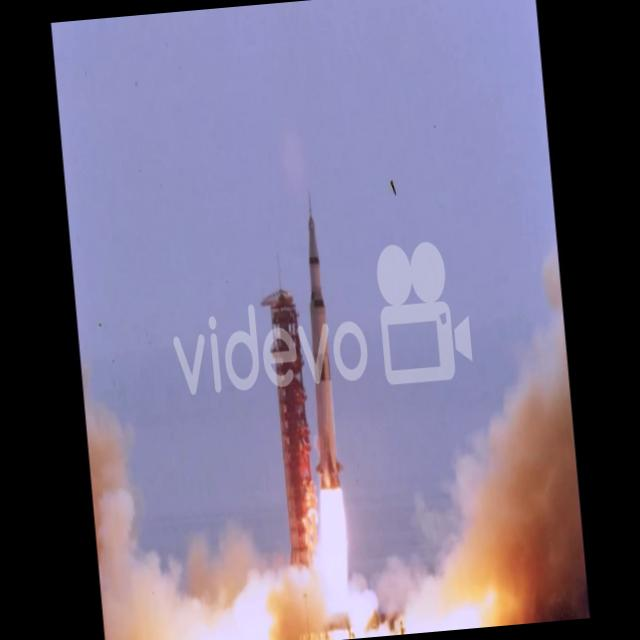rocket: (295, 175, 350, 587)
